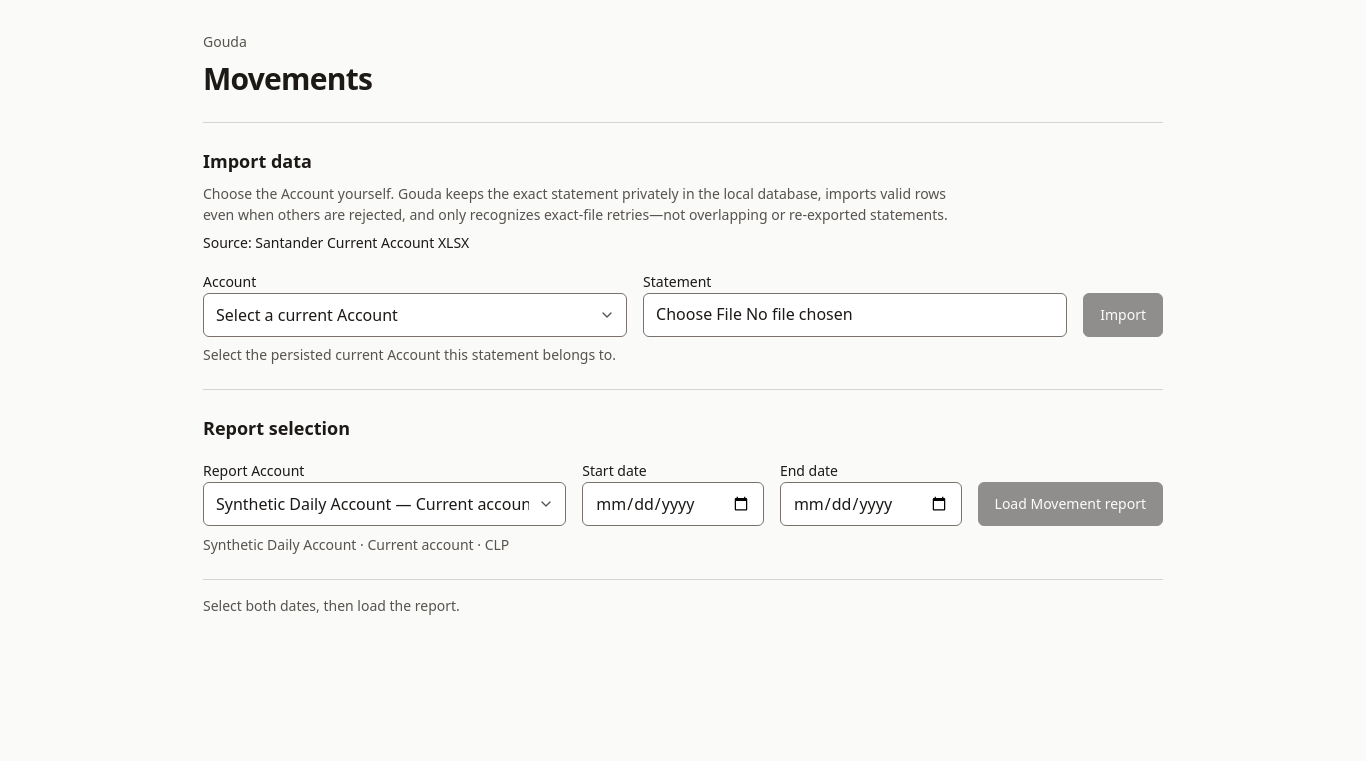
Test: Gouda read-only report flow › requests the selected Account UUID with exact ISO dates only after explicit action
Select "Synthetic Card — Credit card — USD" in the dropdown labelled "Report Account" at (385, 504), box [203,482,566,526]
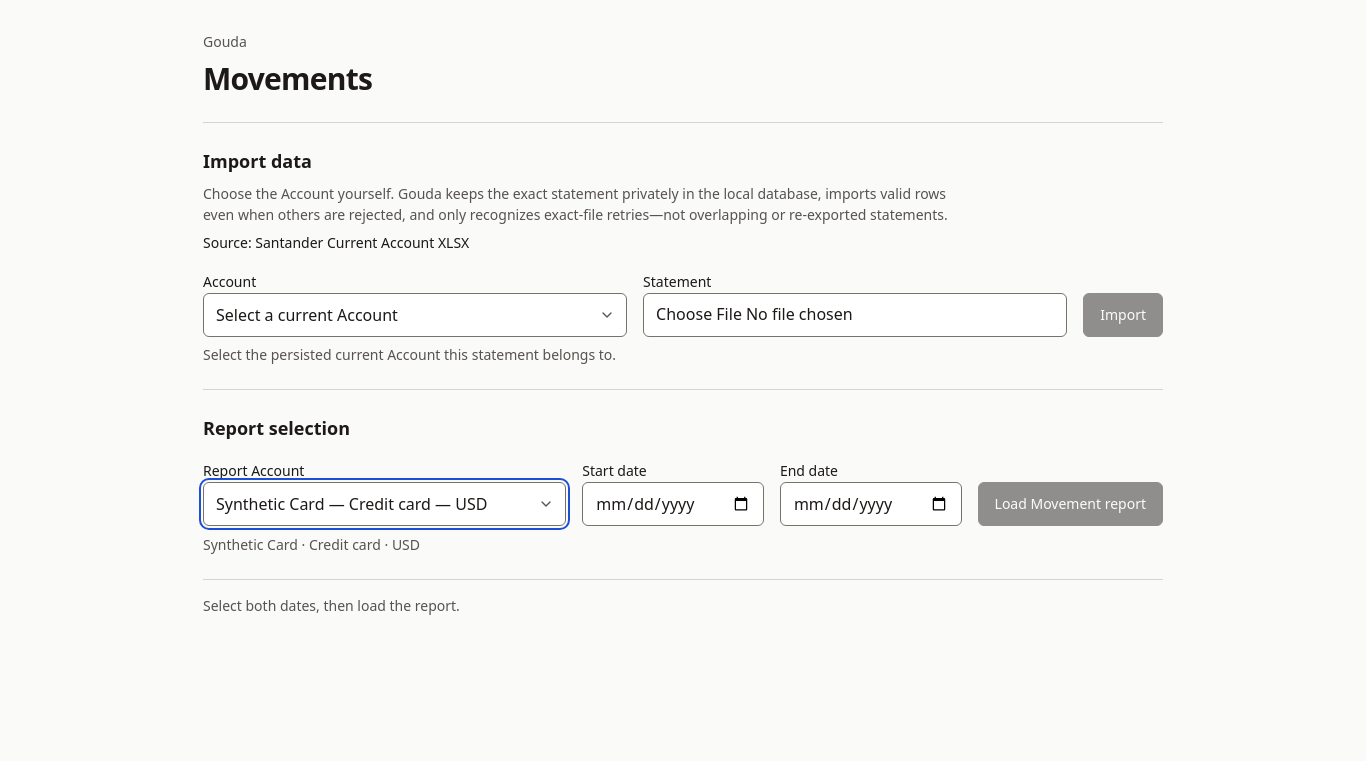
Type "2026-06-01" into the date field labelled "Start date".
click(673, 504); type("2026-06-01")  # box [582,482,764,526]
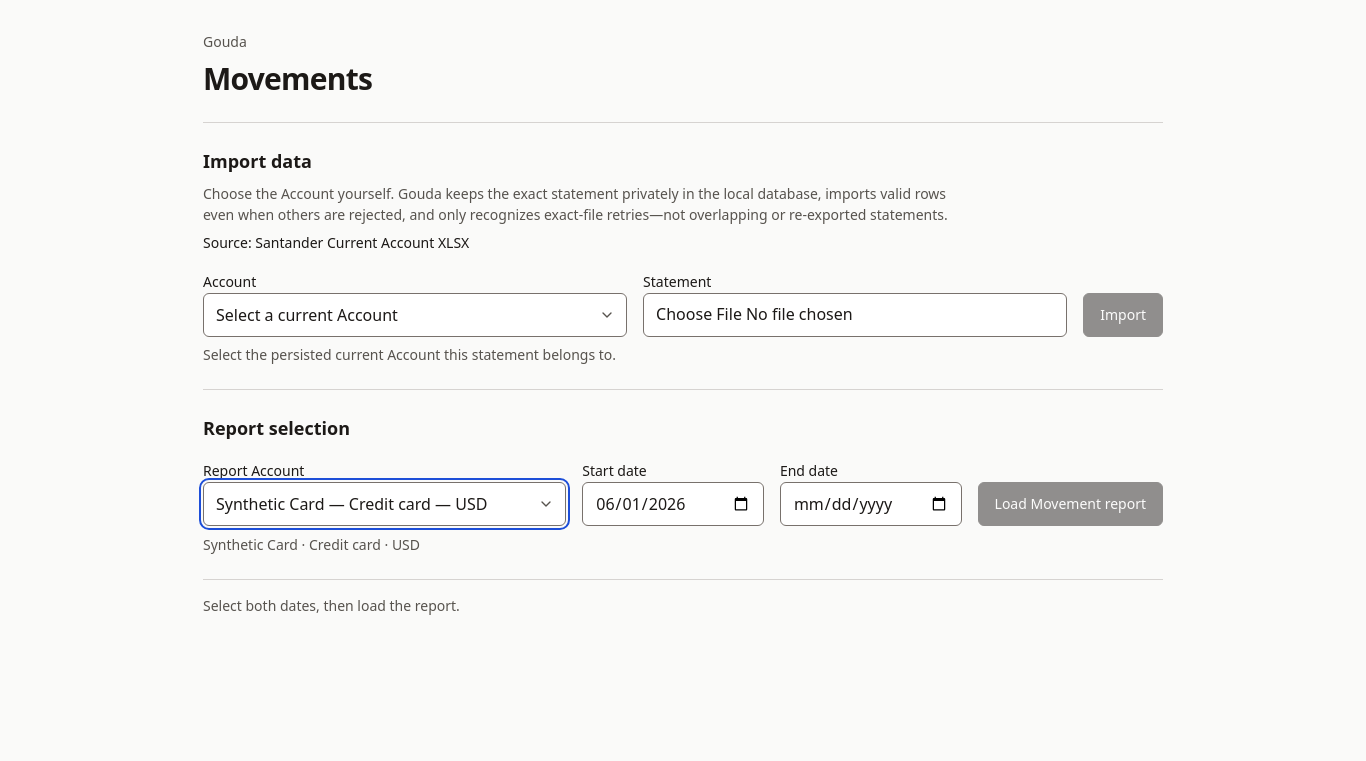
Type "2026-06-30" into the date field labelled "End date".
click(871, 504); type("2026-06-30")  # box [780,482,962,526]
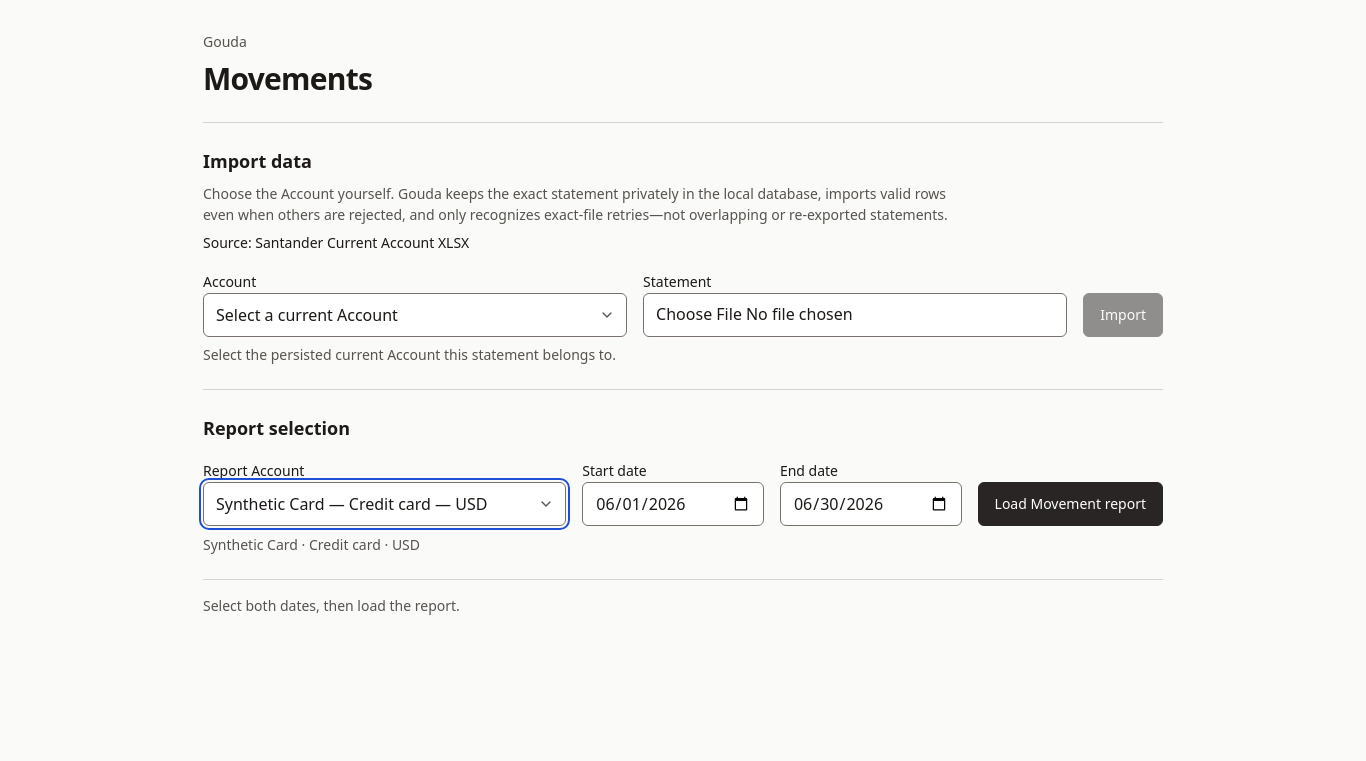
Click the button "Load Movement report".
click(1070, 504)  # box [978,482,1163,526]
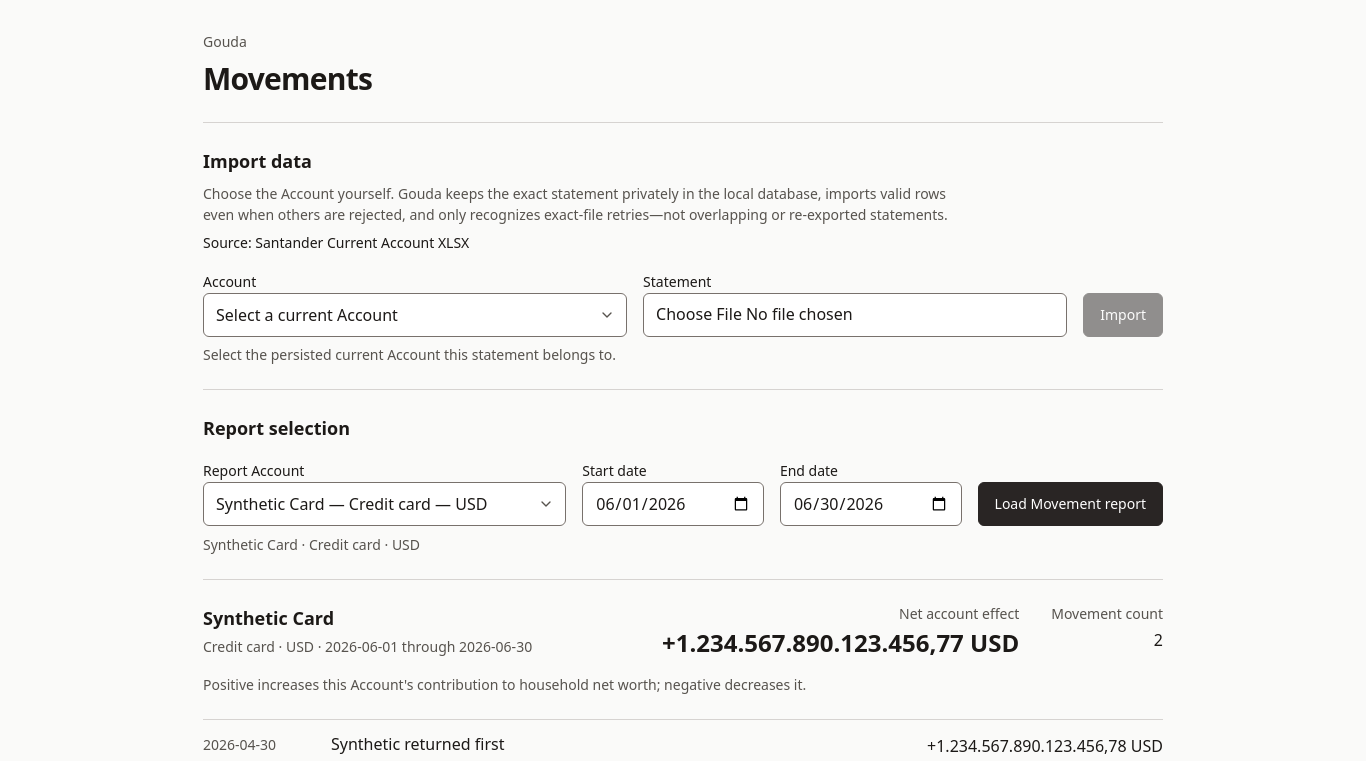
Result: the heading "Synthetic Card" is shown at [203,606,334,630]
